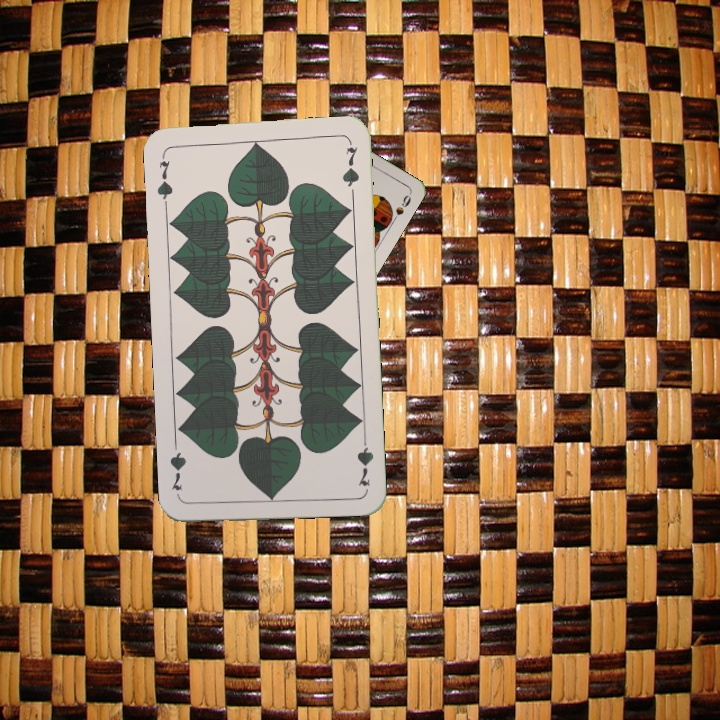G7: (353, 430, 376, 489), (153, 149, 175, 208)
